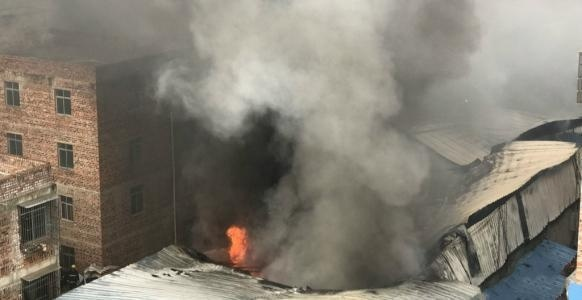fire: (224, 223, 251, 265)
